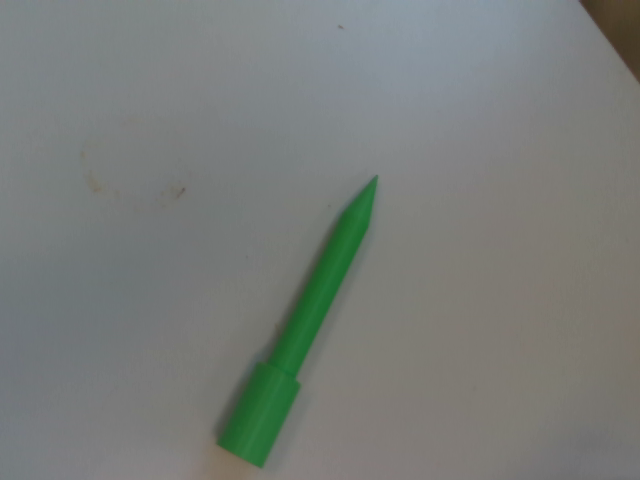Probe: (213, 164, 387, 473)
